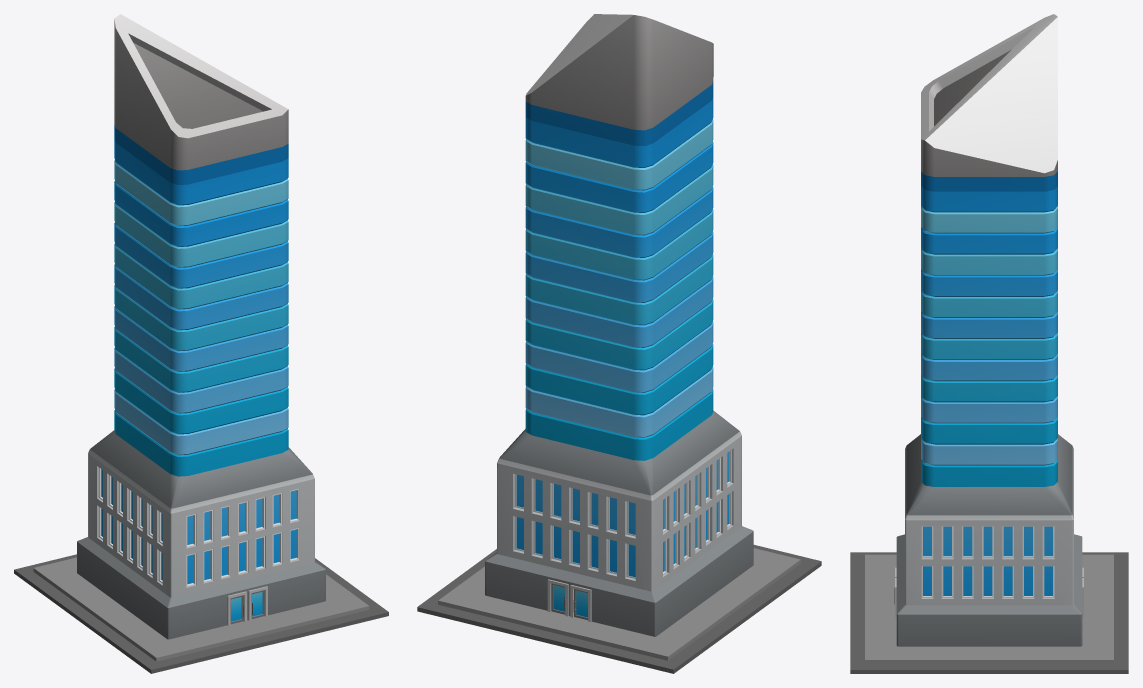
Rendered from business_center_002.glb.
The picture shows the model from 3 angles, left to right: view 1: azimuth 30°, elevation 25°; view 2: azimuth 150°, elevation 25°; view 3: azimuth 270°, elevation 25°; orthographic projection. The views are drawn at different scales.
Parts seen in each view (by area): view 1: business_center_002; view 2: business_center_002; view 3: business_center_002.
Boxes of the visible parts, box(x1,y1,x2,y2) form: business_center_002: box(14, 14, 388, 673); business_center_002: box(417, 14, 821, 673); business_center_002: box(850, 14, 1128, 673).
Bounding box in the file's own units: 20.29 × 46.32 × 20.29.
2 materials, 2 textured.
